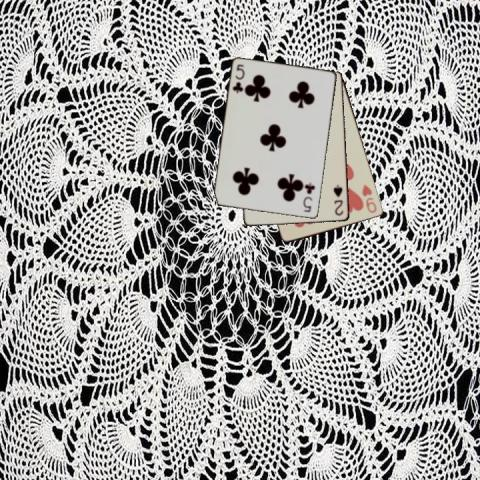2s: (330, 182, 344, 217)
5c: (229, 61, 246, 95), (300, 180, 316, 214)
9h: (359, 181, 378, 215)
